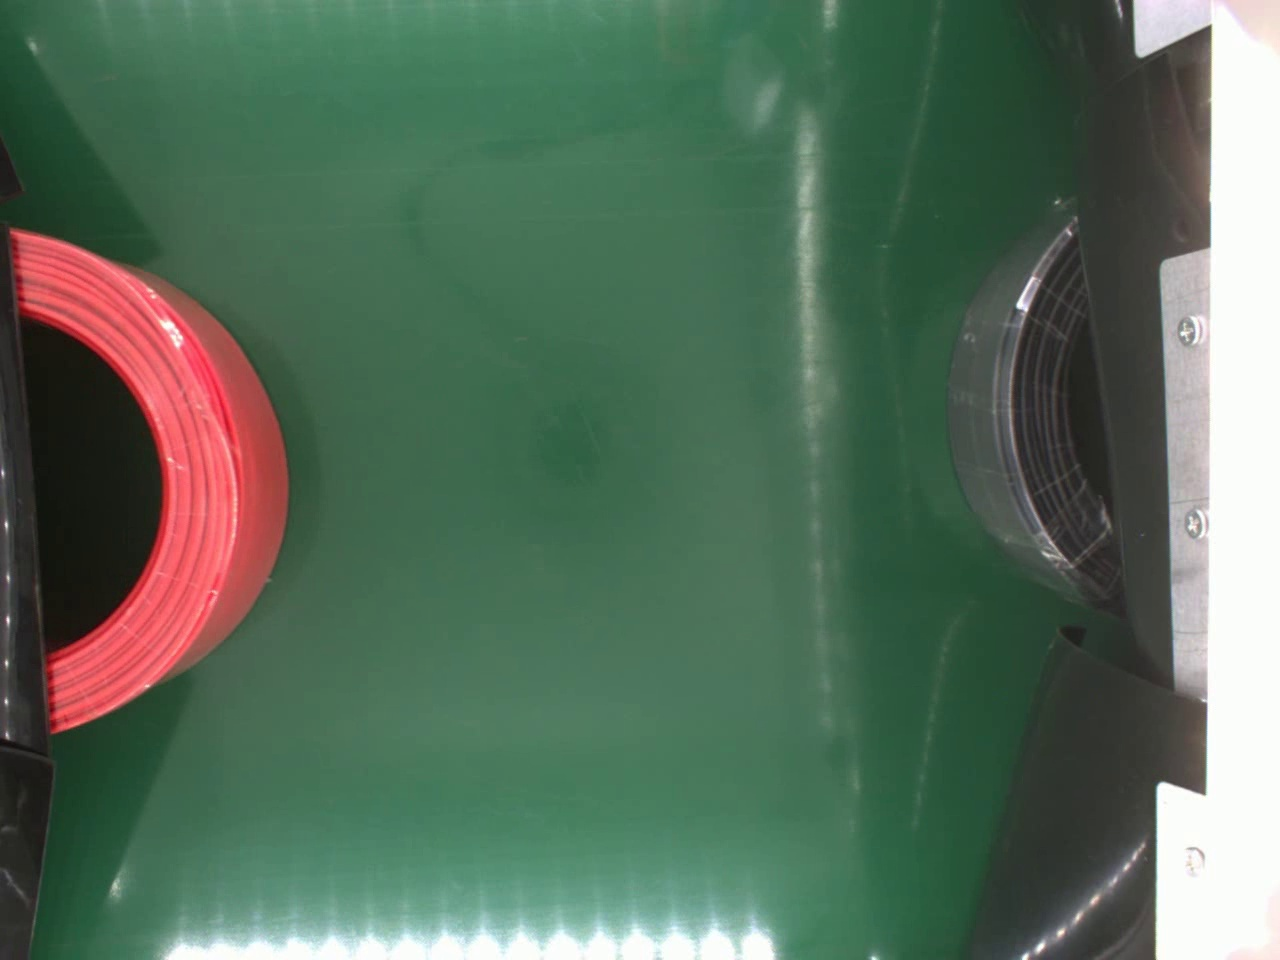black: (939, 196, 1124, 620)
red: (9, 221, 294, 739)
